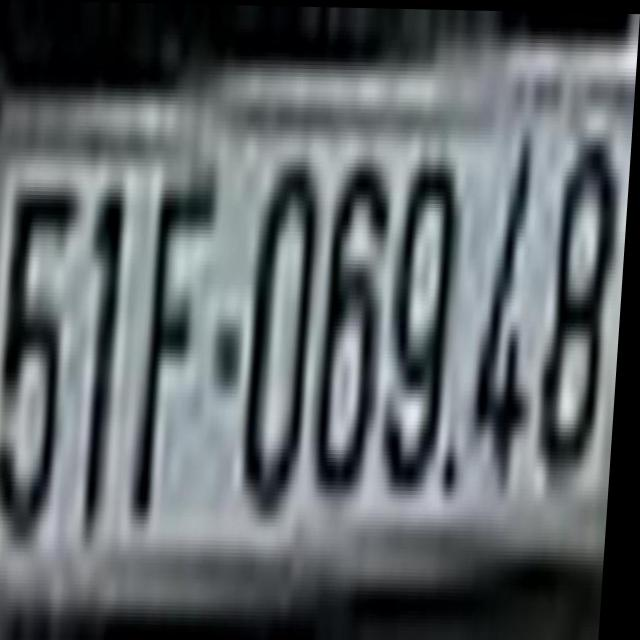0: (244, 148, 327, 525)
1: (75, 145, 131, 557)
5: (0, 132, 90, 557)
6: (314, 130, 396, 496)
8: (540, 114, 623, 480)
9: (387, 132, 463, 493), (474, 117, 547, 483)
F: (136, 158, 223, 524)
